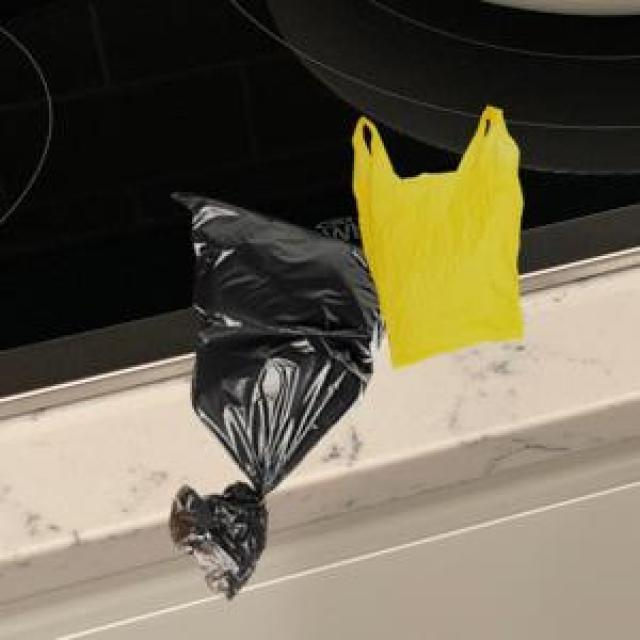miscellaneous trash: (166, 190, 382, 595)
